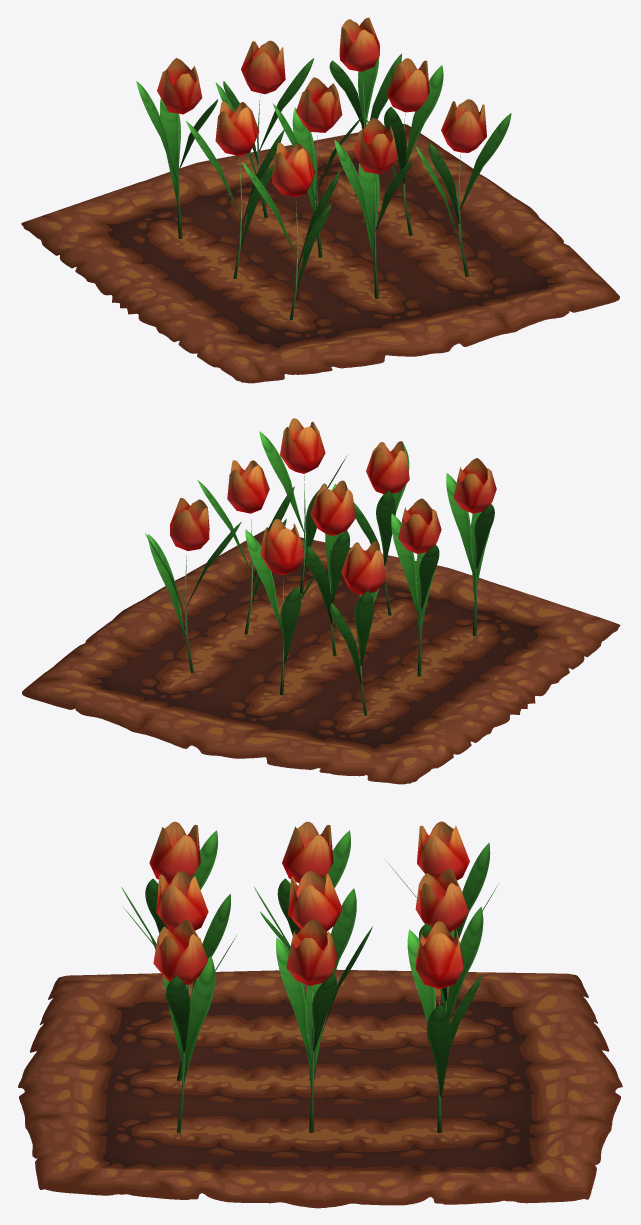
Rendered from Tulip_Field_Red_Lv3.FBX.
The picture shows the model from 3 angles, top to bottom: view 1: azimuth 30°, elevation 25°; view 2: azimuth 150°, elevation 25°; view 3: azimuth 270°, elevation 25°; orthographic projection. The views are drawn at different scales.
Visible parts, largest first — view 1: Tulip_Field_Red_Lv3; view 2: Tulip_Field_Red_Lv3; view 3: Tulip_Field_Red_Lv3.
Part boxes in pixels (box(x1,y1,x2,y2)): Tulip_Field_Red_Lv3: box(21, 17, 619, 383); Tulip_Field_Red_Lv3: box(22, 418, 620, 784); Tulip_Field_Red_Lv3: box(18, 821, 622, 1208).
Bounding box in the file's own units: 274 × 114 × 296.
